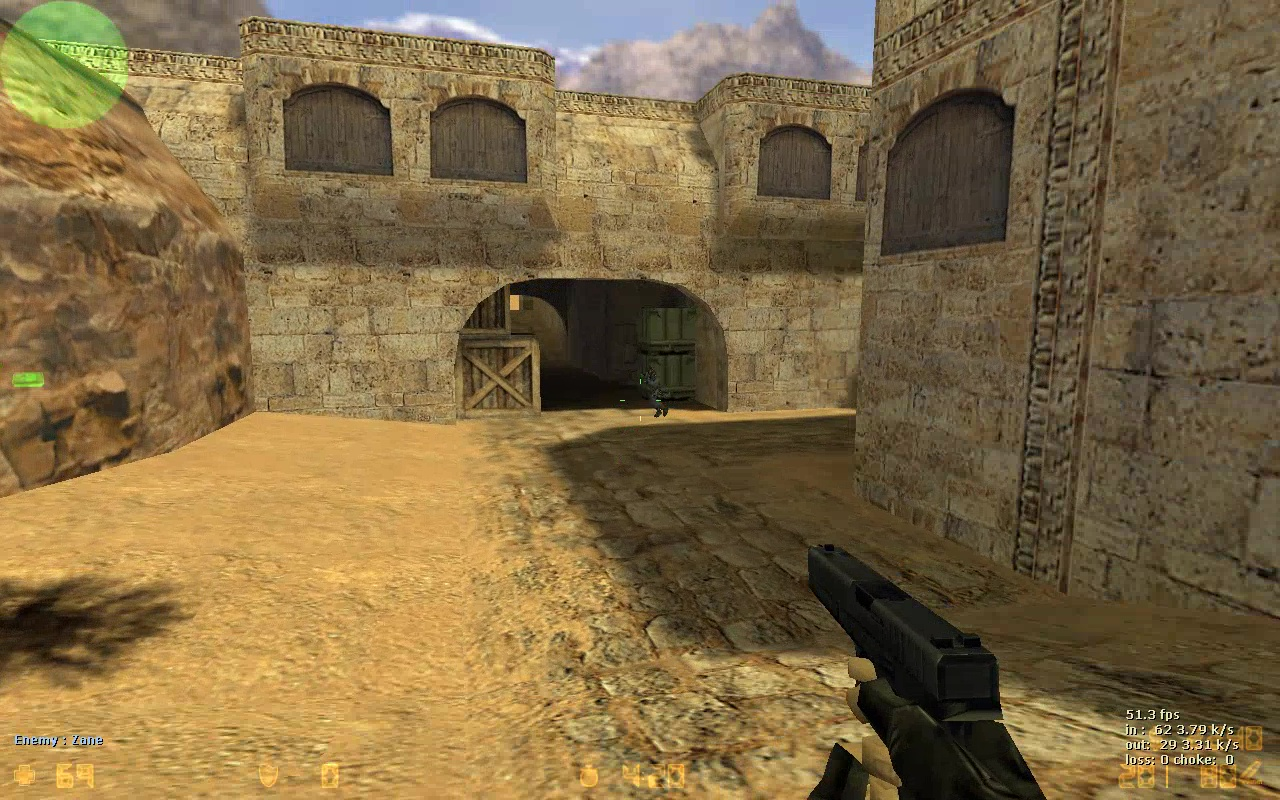ct: (635, 367, 672, 417)
